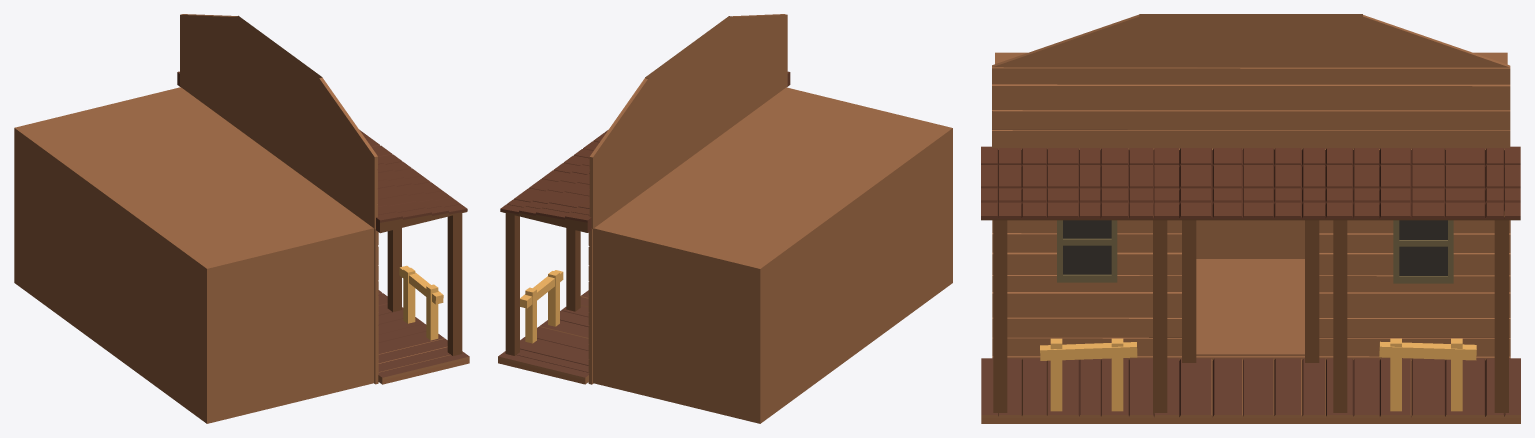
File: saloon.gltf
The picture shows the model from 3 angles, left to right: view 1: azimuth 30°, elevation 25°; view 2: azimuth 150°, elevation 25°; view 3: azimuth 270°, elevation 25°; orthographic projection. The views are drawn at different scales.
Parts seen in each view (by area): view 1: Cube, Cube.004, Cube.002, Cube.001, Cube.005, Cube.007, Cube.003, Cube.011, Cube.012, Cube.013; view 2: Cube, Cube.004, Cube.002, Cube.001, Cube.006, Cube.008, Cube.003, Cube.016, Cube.015, Cube.014; view 3: Cube.004, Cube.002, Cube.003, Cube.001, Cube, Cube.018, Cube.017, Cube.006, Cube.007, Cube.005, Cube.008, Cube.009 (+7 smaller).
Boxes of the visible parts, bbox=[...] form: Cube: bbox=[14, 87, 374, 423]; Cube.004: bbox=[180, 14, 377, 228]; Cube.002: bbox=[177, 71, 467, 233]; Cube.001: bbox=[378, 290, 469, 384]; Cube.005: bbox=[447, 213, 462, 355]; Cube.007: bbox=[387, 228, 401, 312]; Cube.003: bbox=[374, 228, 378, 384]; Cube.011: bbox=[426, 284, 438, 340]; Cube.012: bbox=[403, 267, 415, 323]; Cube.013: bbox=[399, 265, 443, 304]; Cube: bbox=[593, 87, 952, 423]; Cube.004: bbox=[589, 14, 787, 228]; Cube.002: bbox=[500, 71, 790, 232]; Cube.001: bbox=[498, 290, 589, 384]; Cube.006: bbox=[505, 213, 519, 355]; Cube.008: bbox=[566, 228, 580, 311]; Cube.003: bbox=[588, 228, 593, 384]; Cube.016: bbox=[548, 271, 559, 326]; Cube.015: bbox=[525, 287, 536, 343]; Cube.014: bbox=[520, 270, 563, 308]; Cube.004: bbox=[992, 14, 1510, 150]; Cube.002: bbox=[981, 146, 1520, 220]; Cube.003: bbox=[992, 220, 1510, 360]; Cube.001: bbox=[981, 358, 1520, 423]; Cube: bbox=[995, 52, 1507, 354]; Cube.018: bbox=[1393, 220, 1453, 283]; Cube.017: bbox=[1057, 220, 1117, 282]; Cube.006: bbox=[1494, 211, 1508, 414]; Cube.007: bbox=[1153, 215, 1167, 414]; Cube.005: bbox=[993, 220, 1007, 414]; Cube.008: bbox=[1333, 220, 1347, 412]; Cube.009: bbox=[1305, 220, 1319, 362].
Bounding box in the file's own units: 13.14 × 12.98 × 17.94.
